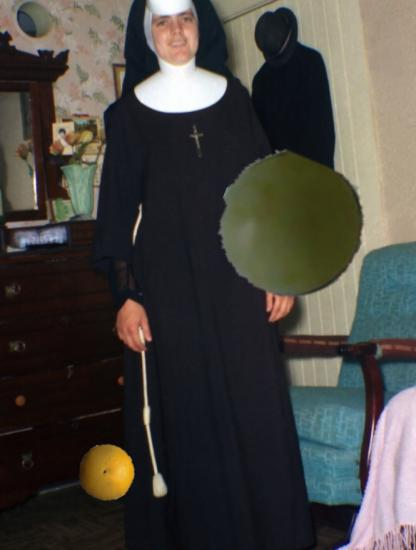Grape: (217, 153, 363, 299)
Grapefruit: (78, 444, 135, 501)
